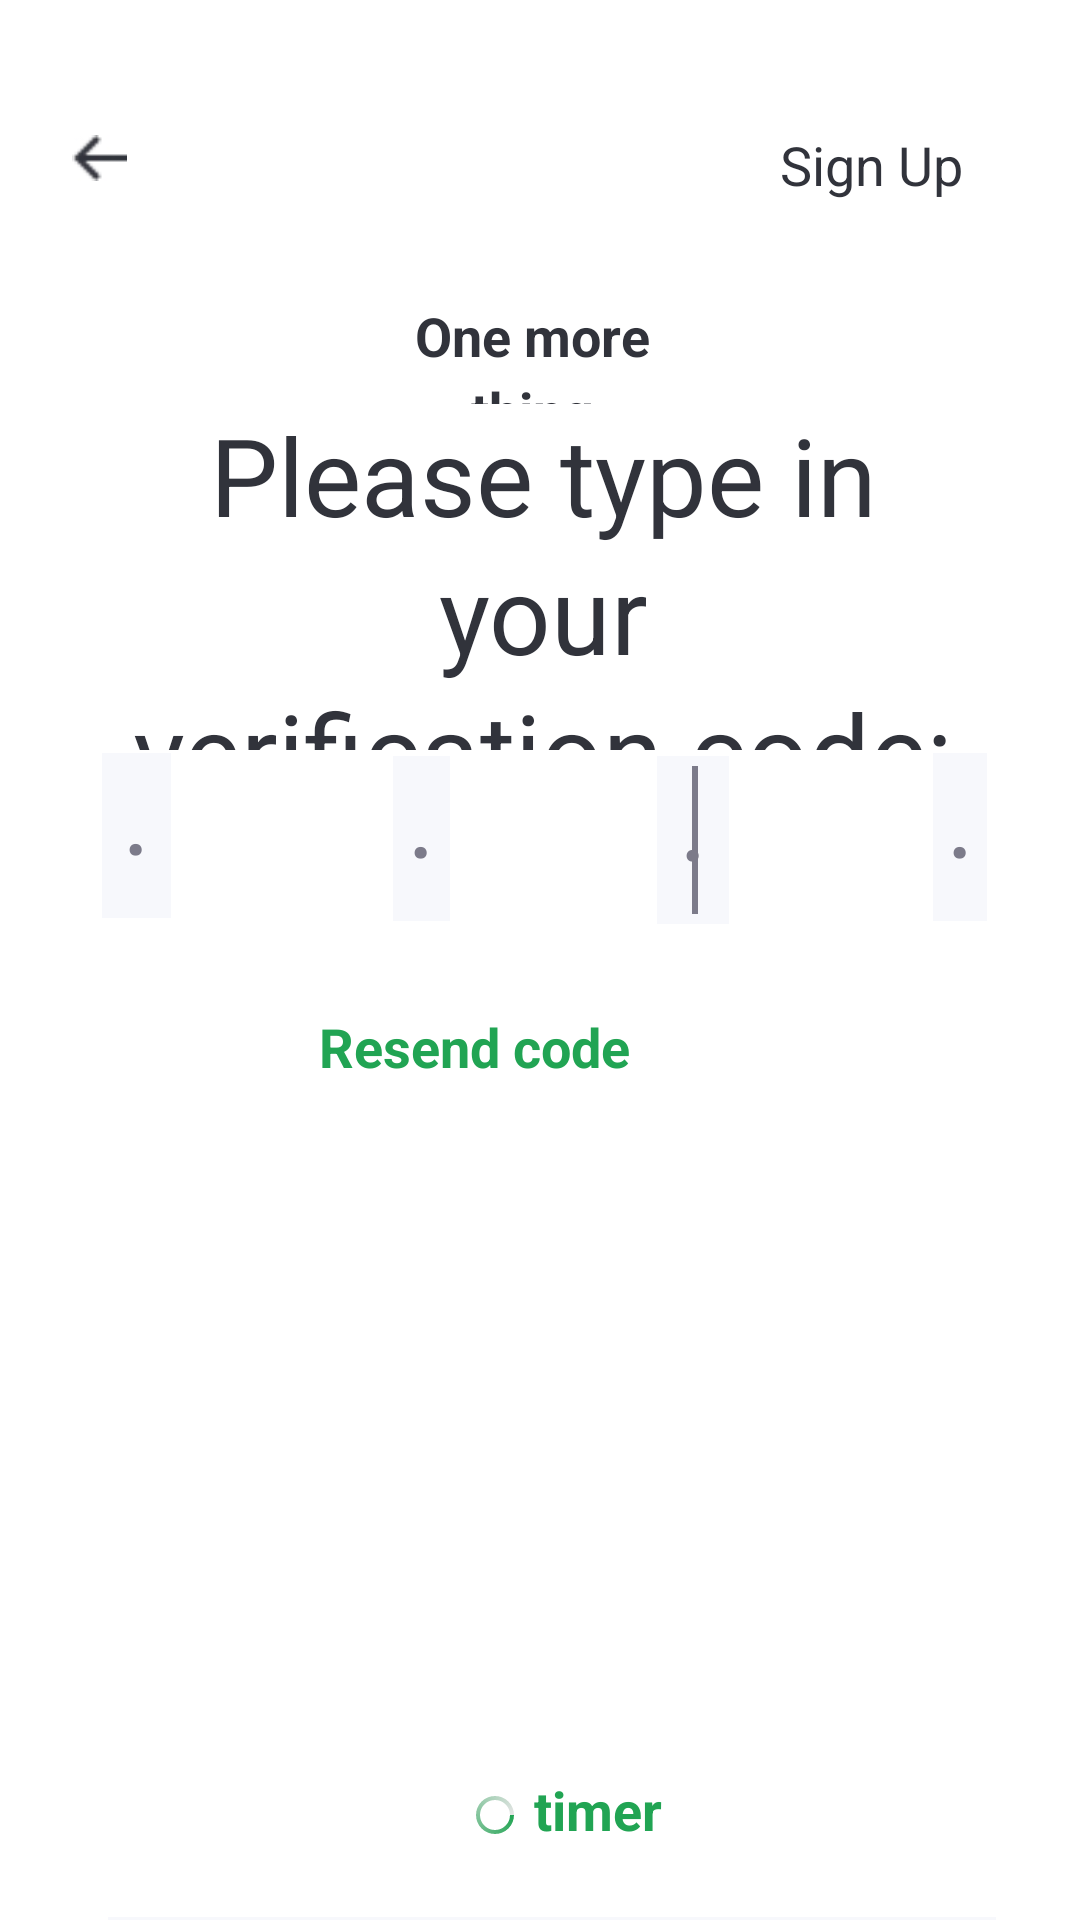

Icons on this 1080w x 1920h Android screen, each with its box as (x1, y1, x2, y2):
back: (72, 135, 127, 181)
